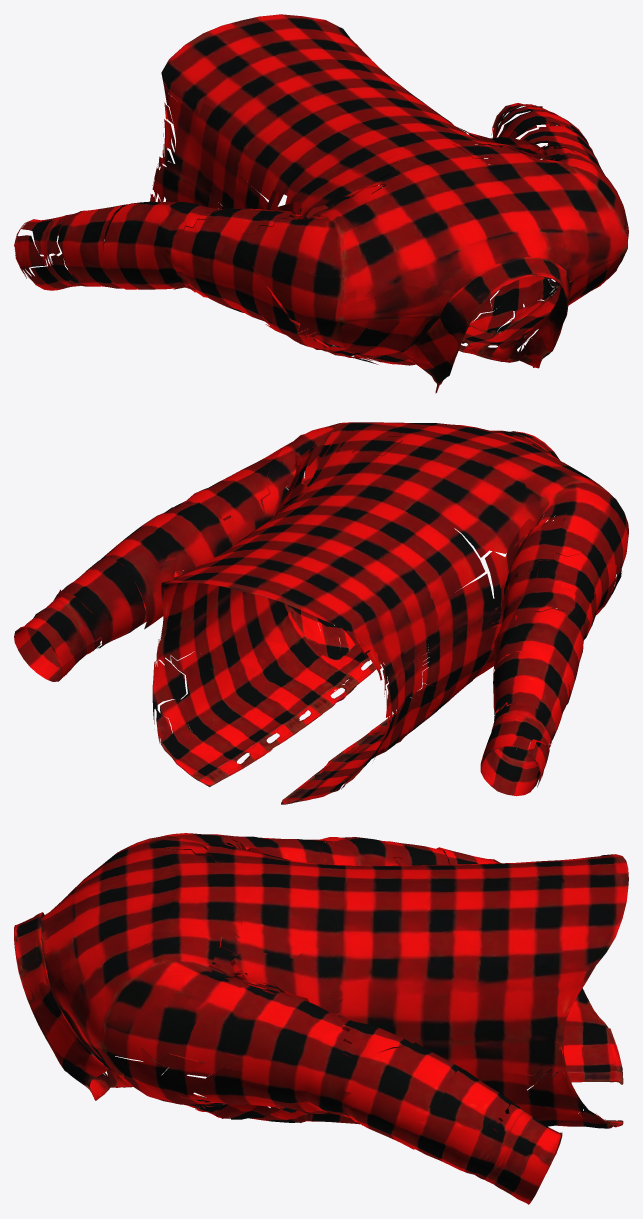
File: adult-base-01.glb
The picture shows the model from 3 angles, top to bottom: view 1: azimuth 30°, elevation 25°; view 2: azimuth 150°, elevation 25°; view 3: azimuth 270°, elevation 25°; orthographic projection. The views are drawn at different scales.
Parts seen in each view (by area): view 1: geometry_0; view 2: geometry_0; view 3: geometry_0.
Part boxes in pixels (x1,y1,x2,y2): geometry_0: [14, 14, 628, 393]; geometry_0: [14, 422, 628, 804]; geometry_0: [14, 833, 628, 1204].
Size of the model in its own units: 0.00842 by 0.00321 by 0.0078.
Materials: 1 (1 with a texture image).
